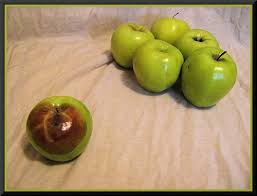apple: (180, 49, 236, 107), (134, 43, 185, 90), (112, 22, 155, 65), (180, 29, 222, 55), (154, 14, 191, 42)
damaged_apple: (24, 96, 97, 159)
